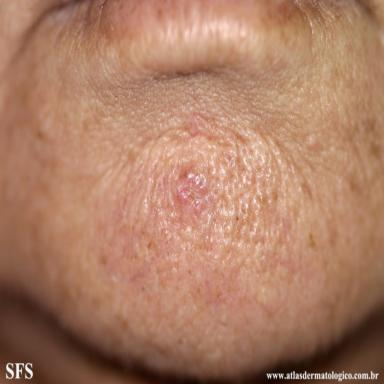basal-cell-carcinoma: (177, 172, 209, 203)
